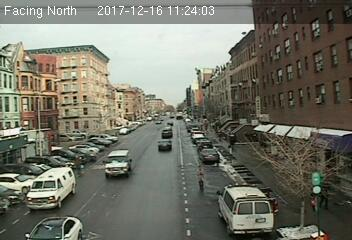car: (199, 147, 219, 163), (158, 139, 172, 151), (161, 128, 172, 138)
pedestrian: (194, 165, 207, 192)
police: (216, 182, 273, 234)
truck: (27, 166, 76, 211), (104, 150, 133, 176)
